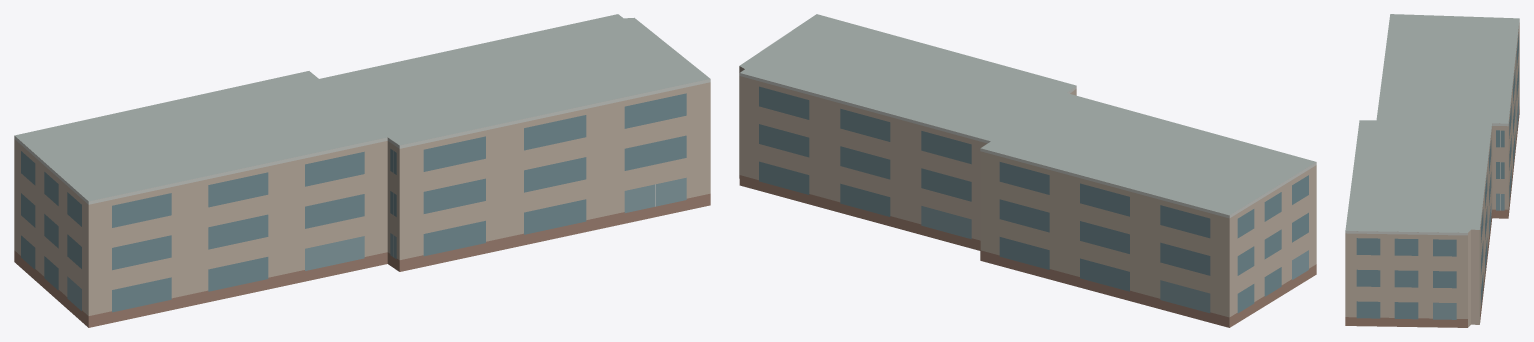
The model's file is survey-upis-32886315.glb.
3 renders of one model, left to right at view 1: azimuth 30°, elevation 25°; view 2: azimuth 150°, elevation 25°; view 3: azimuth 270°, elevation 25°, orthographic. The views are drawn at different scales.
Parts seen in each view (by area): view 1: survey-upis-32886315.tmp; view 2: survey-upis-32886315.tmp; view 3: survey-upis-32886315.tmp.
Boxes of the visible parts, x1,y1,x2,y2 form: survey-upis-32886315.tmp: [14, 14, 710, 327]; survey-upis-32886315.tmp: [739, 14, 1316, 327]; survey-upis-32886315.tmp: [1345, 14, 1519, 327].
Bounding box in the file's own units: 45.24 × 9.15 × 15.22.
